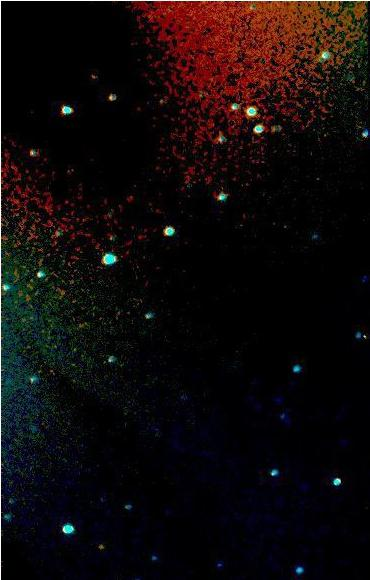star: (86, 530, 116, 560)
